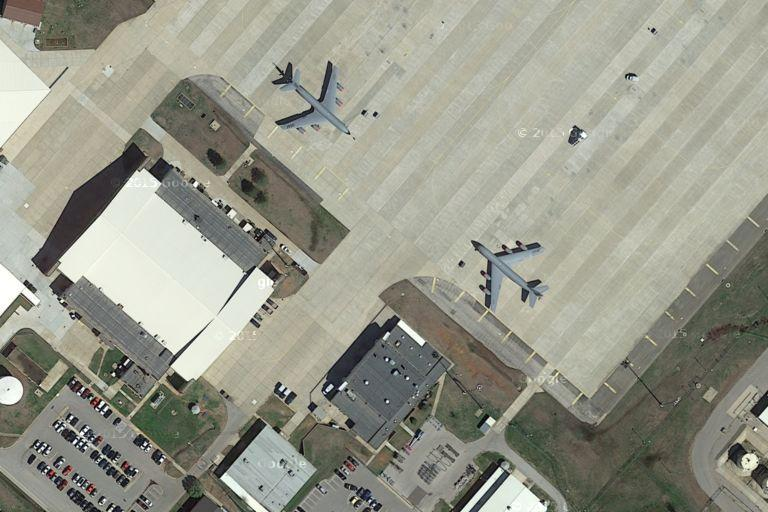KC-135: (271, 60, 353, 138), (468, 234, 548, 312)
